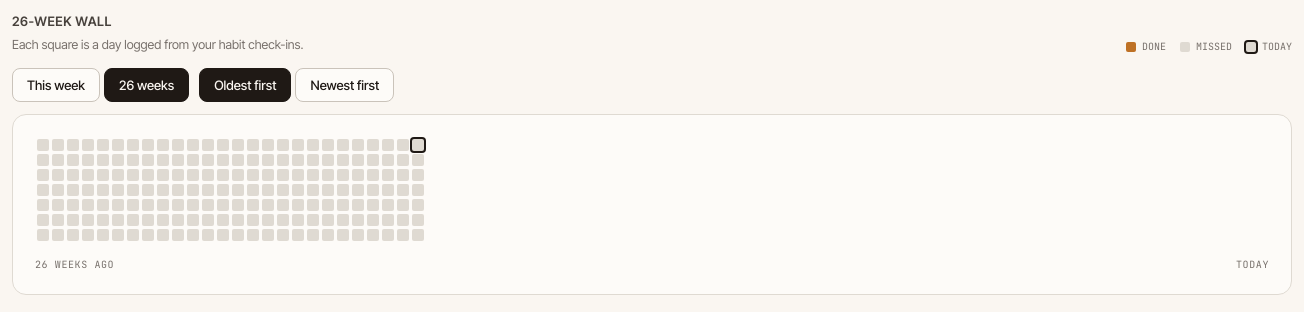
Test: UI regressions › switches to the This week view when the user clicks the toggle
the user clicks the "This week" range button
Click the button "This week" at (56, 85), box [12, 68, 100, 102]
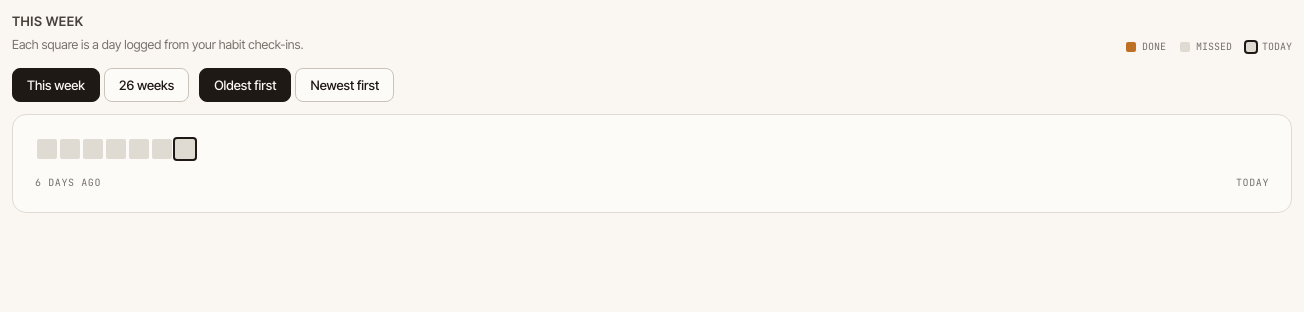
Now the heading "This week" is shown, box [12, 13, 84, 29]
Now the text "6 DAYS AGO" is shown, box [35, 175, 101, 190]
